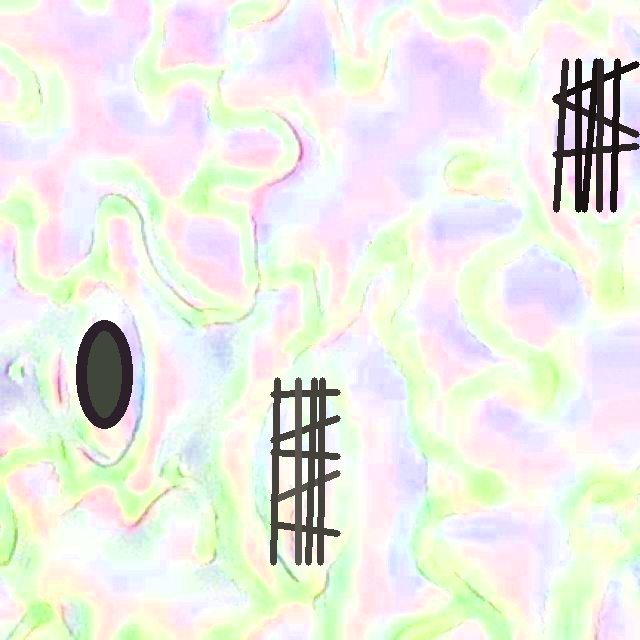open: (552, 58, 640, 212), (270, 377, 340, 565), (76, 320, 133, 429)
